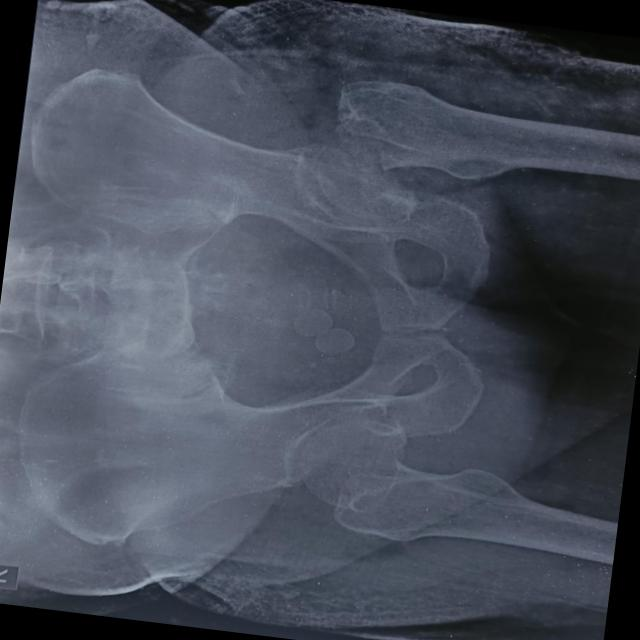left-neck: (334, 79, 583, 178), (315, 139, 419, 219)
normal-right: (298, 419, 582, 554)
